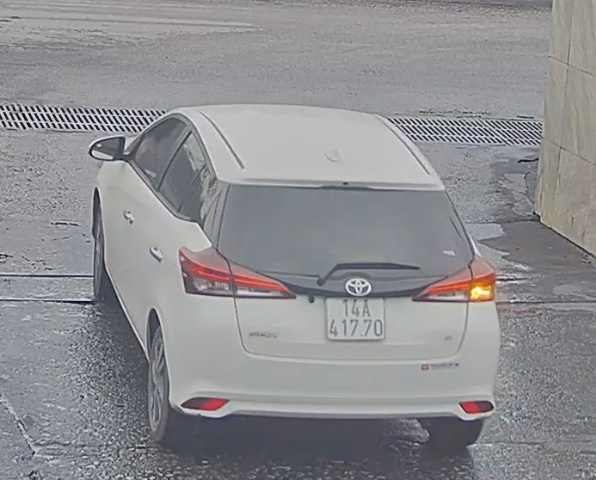vehicle plate: (323, 289, 391, 347)
